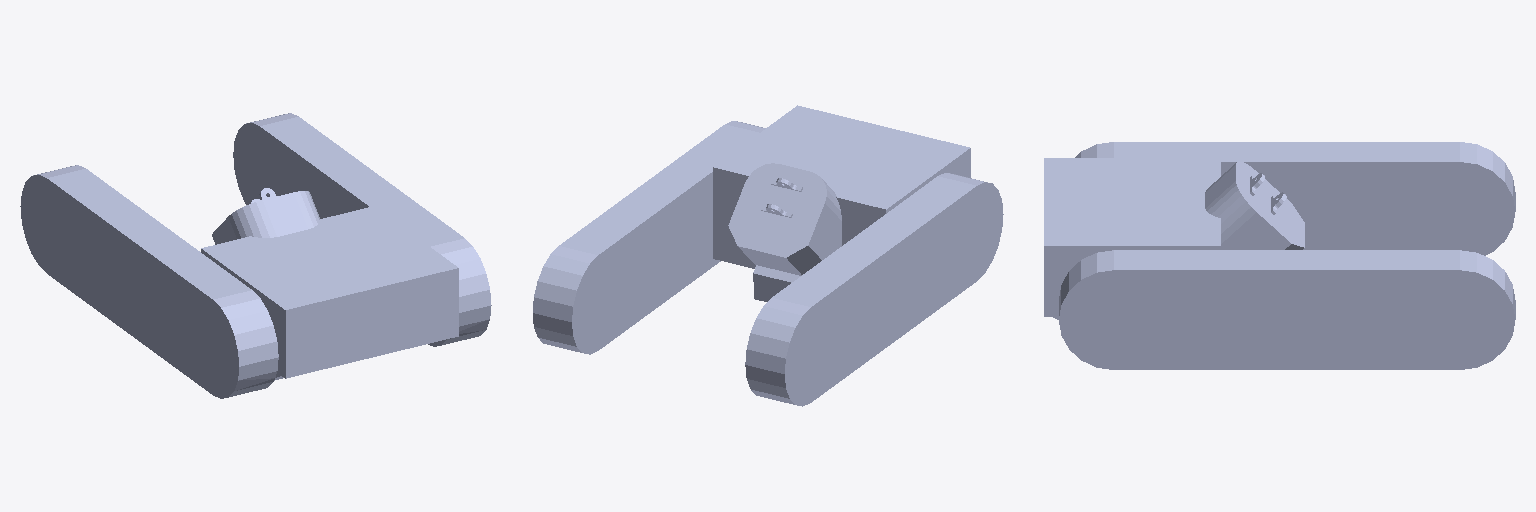
URDF robot description (IWAMP_URDF_151021.SLDASM):
<robot
  name="IWAMP_URDF_151021.SLDASM">
  <link
    name="chasis_link">
    <inertial>
      <origin
        xyz="8.84549564303887E-19 -0.0718108193337467 0.0622831434710217"
        rpy="0 0 0" />
      <mass
        value="9.63949891888311" />
      <inertia
        ixx="0.175105655940575"
        ixy="-8.40221032148051E-17"
        ixz="-8.7505359713904E-18"
        iyy="0.12516602042126"
        iyz="-0.00427488292650829"
        izz="0.280074215069266" />
    </inertial>
    <visual>
      <origin
        xyz="0 0 0"
        rpy="0 0 0" />
      <geometry>
        <mesh
          filename="package://IWAMP_URDF_151021.SLDASM/meshes/chasis_link.STL" />
      </geometry>
      <material
        name="">
        <color
          rgba="0.792156862745098 0.819607843137255 0.933333333333333 1" />
      </material>
    </visual>
    <collision>
      <origin
        xyz="0 0 0"
        rpy="0 0 0" />
      <geometry>
        <mesh
          filename="package://IWAMP_URDF_151021.SLDASM/meshes/chasis_link.STL" />
      </geometry>
    </collision>
  </link>
  <link
    name="trans_base_link">
    <inertial>
      <origin
        xyz="-1.25947262695791E-17 0.0111493414862326 0.0312014794506156"
        rpy="0 0 0" />
      <mass
        value="1.52634919066965" />
      <inertia
        ixx="0.00515878833887719"
        ixy="-1.7213389792638E-18"
        ixz="2.39125865362686E-18"
        iyy="0.00547975843460313"
        iyz="-0.000384362169845534"
        izz="0.0100724945573142" />
    </inertial>
    <visual>
      <origin
        xyz="0 0 0"
        rpy="0 0 0" />
      <geometry>
        <mesh
          filename="package://IWAMP_URDF_151021.SLDASM/meshes/trans_base_link.STL" />
      </geometry>
      <material
        name="">
        <color
          rgba="0.792156862745098 0.819607843137255 0.933333333333333 1" />
      </material>
    </visual>
    <collision>
      <origin
        xyz="0 0 0"
        rpy="0 0 0" />
      <geometry>
        <mesh
          filename="package://IWAMP_URDF_151021.SLDASM/meshes/trans_base_link.STL" />
      </geometry>
    </collision>
  </link>
  <joint
    name="trans_base_joint"
    type="prismatic">
    <origin
      xyz="0 0 0"
      rpy="0 0 0" />
    <parent
      link="chasis_link" />
    <child
      link="trans_base_link" />
    <axis
      xyz="0 1 0" />
    <limit
      effort="0"
      velocity="0" />
  </joint>
  <link
    name="arm_yaw_link">
    <inertial>
      <origin
        xyz="-0.00212537608285478 -0.000611402181059748 0.0322390695229115"
        rpy="0 0 0" />
      <mass
        value="0.361799671756217" />
      <inertia
        ixx="0.000327814456834869"
        ixy="4.79453753360913E-06"
        ixz="2.68851639585549E-05"
        iyy="0.000349984731920422"
        iyz="-4.70523012181893E-06"
        izz="0.000437706123674794" />
    </inertial>
    <visual>
      <origin
        xyz="0 0 0"
        rpy="0 0 0" />
      <geometry>
        <mesh
          filename="package://IWAMP_URDF_151021.SLDASM/meshes/arm_yaw_link.STL" />
      </geometry>
      <material
        name="">
        <color
          rgba="0.792156862745098 0.819607843137255 0.933333333333333 1" />
      </material>
    </visual>
    <collision>
      <origin
        xyz="0 0 0"
        rpy="0 0 0" />
      <geometry>
        <mesh
          filename="package://IWAMP_URDF_151021.SLDASM/meshes/arm_yaw_link.STL" />
      </geometry>
    </collision>
  </link>
  <joint
    name="Arm_yaw_joint"
    type="revolute">
    <origin
      xyz="0 0.0895 0.035016"
      rpy="0 0 0" />
    <parent
      link="trans_base_link" />
    <child
      link="arm_yaw_link" />
    <axis
      xyz="0 0 -1" />
    <limit
      effort="0"
      velocity="0" />
  </joint>
  <link
    name="arm_pitch_link">
    <inertial>
      <origin
        xyz="0.058957667264048 -0.14005721103525 0.0019553069389836"
        rpy="0 0 0" />
      <mass
        value="1.85488275899258" />
      <inertia
        ixx="0.0257712444565225"
        ixy="-0.000439691693175265"
        ixz="2.12917262387439E-05"
        iyy="0.00392606737781297"
        iyz="-6.57668892492239E-05"
        izz="0.0223656996218578" />
    </inertial>
    <visual>
      <origin
        xyz="0 0 0"
        rpy="0 0 0" />
      <geometry>
        <mesh
          filename="package://IWAMP_URDF_151021.SLDASM/meshes/arm_pitch_link.STL" />
      </geometry>
      <material
        name="">
        <color
          rgba="0.792156862745098 0.819607843137255 0.933333333333333 1" />
      </material>
    </visual>
    <collision>
      <origin
        xyz="0 0 0"
        rpy="0 0 0" />
      <geometry>
        <mesh
          filename="package://IWAMP_URDF_151021.SLDASM/meshes/arm_pitch_link.STL" />
      </geometry>
    </collision>
  </link>
  <joint
    name="arm_pitch_joint"
    type="revolute">
    <origin
      xyz="-0.0015 0 0.043"
      rpy="3.1416 -1.5708 0" />
    <parent
      link="arm_yaw_link" />
    <child
      link="arm_pitch_link" />
    <axis
      xyz="0 0 -1" />
    <limit
      effort="0"
      velocity="0" />
  </joint>
  <link
    name="arm_prismatic_link">
    <inertial>
      <origin
        xyz="0.00101633881757432 -0.17912571490332 4.23937646206712E-13"
        rpy="0 0 0" />
      <mass
        value="0.110019786871871" />
      <inertia
        ixx="0.00126342890038883"
        ixy="-1.38410348401849E-06"
        ixz="-2.10689989753812E-16"
        iyy="7.23043976475078E-06"
        iyz="2.98083693793535E-15"
        izz="0.00126085275676098" />
    </inertial>
    <visual>
      <origin
        xyz="0 0 0"
        rpy="0 0 0" />
      <geometry>
        <mesh
          filename="package://IWAMP_URDF_151021.SLDASM/meshes/arm_prismatic_link.STL" />
      </geometry>
      <material
        name="">
        <color
          rgba="0.792156862745098 0.819607843137255 0.933333333333333 1" />
      </material>
    </visual>
    <collision>
      <origin
        xyz="0 0 0"
        rpy="0 0 0" />
      <geometry>
        <mesh
          filename="package://IWAMP_URDF_151021.SLDASM/meshes/arm_prismatic_link.STL" />
      </geometry>
    </collision>
  </link>
  <joint
    name="arm_prismatic_joint"
    type="prismatic">
    <origin
      xyz="0.063769 0.09977 -0.0015"
      rpy="-4.1085E-48 -6.1428E-48 2.5238E-95" />
    <parent
      link="arm_pitch_link" />
    <child
      link="arm_prismatic_link" />
    <axis
      xyz="0 -1 0" />
    <limit
      effort="0"
      velocity="0" />
  </joint>
  <link
    name="wrist_pitch_link">
    <inertial>
      <origin
        xyz="-0.000157908793528061 0.00647785036964442 -1.07871939140088E-10"
        rpy="0 0 0" />
      <mass
        value="0.00528345401160869" />
      <inertia
        ixx="3.41063336130692E-07"
        ixy="-5.19121917890607E-09"
        ixz="4.11871201547351E-15"
        iyy="2.6130680101728E-07"
        iyz="5.33770867276759E-15"
        izz="3.71822826705573E-07" />
    </inertial>
    <visual>
      <origin
        xyz="0 0 0"
        rpy="0 0 0" />
      <geometry>
        <mesh
          filename="package://IWAMP_URDF_151021.SLDASM/meshes/wrist_pitch_link.STL" />
      </geometry>
      <material
        name="">
        <color
          rgba="0.792156862745098 0.819607843137255 0.933333333333333 1" />
      </material>
    </visual>
    <collision>
      <origin
        xyz="0 0 0"
        rpy="0 0 0" />
      <geometry>
        <mesh
          filename="package://IWAMP_URDF_151021.SLDASM/meshes/wrist_pitch_link.STL" />
      </geometry>
    </collision>
  </link>
  <joint
    name="wrist_pitch_joint"
    type="revolute">
    <origin
      xyz="0 0 0"
      rpy="-3.6047E-16 1.8276E-16 0.7854" />
    <parent
      link="arm_prismatic_link" />
    <child
      link="wrist_pitch_link" />
    <axis
      xyz="0 0 1" />
    <limit
      effort="0"
      velocity="0" />
  </joint>
  <link
    name="wrist_row_link">
    <inertial>
      <origin
        xyz="-8.39262507867758E-13 0.0606398181780271 -0.0146123429229879"
        rpy="0 0 0" />
      <mass
        value="0.998352787983995" />
      <inertia
        ixx="0.00175421545173074"
        ixy="-3.45356504699384E-14"
        ixz="2.25884740083236E-11"
        iyy="0.00164371838415454"
        iyz="-3.45497110087724E-05"
        izz="0.00156876934052778" />
    </inertial>
    <visual>
      <origin
        xyz="0 0 0"
        rpy="0 0 0" />
      <geometry>
        <mesh
          filename="package://IWAMP_URDF_151021.SLDASM/meshes/wrist_row_link.STL" />
      </geometry>
      <material
        name="">
        <color
          rgba="0.792156862745098 0.819607843137255 0.933333333333333 1" />
      </material>
    </visual>
    <collision>
      <origin
        xyz="0 0 0"
        rpy="0 0 0" />
      <geometry>
        <mesh
          filename="package://IWAMP_URDF_151021.SLDASM/meshes/wrist_row_link.STL" />
      </geometry>
    </collision>
  </link>
  <joint
    name="wrist_row_joint"
    type="revolute">
    <origin
      xyz="0 0.0127 0"
      rpy="0 1.5708 0" />
    <parent
      link="wrist_pitch_link" />
    <child
      link="wrist_row_link" />
    <axis
      xyz="0 0 1" />
    <limit
      effort="0"
      velocity="0" />
  </joint>
  <link
    name="tool_link">
    <inertial>
      <origin
        xyz="-7.91465715362353E-13 -0.0166761289891899 0.0782580600328449"
        rpy="0 0 0" />
      <mass
        value="0.999157186107062" />
      <inertia
        ixx="0.00175794457946145"
        ixy="2.25883697304288E-11"
        ixz="3.44062963742904E-14"
        iyy="0.00157227459030867"
        iyz="3.36695904433802E-05"
        izz="0.00164394631652227" />
    </inertial>
    <visual>
      <origin
        xyz="0 0 0"
        rpy="0 0 0" />
      <geometry>
        <mesh
          filename="package://IWAMP_URDF_151021.SLDASM/meshes/tool_link.STL" />
      </geometry>
      <material
        name="">
        <color
          rgba="0.792156862745098 0.819607843137255 0.933333333333333 1" />
      </material>
    </visual>
    <collision>
      <origin
        xyz="0 0 0"
        rpy="0 0 0" />
      <geometry>
        <mesh
          filename="package://IWAMP_URDF_151021.SLDASM/meshes/tool_link.STL" />
      </geometry>
    </collision>
  </link>
  <joint
    name="tool_joint"
    type="fixed">
    <origin
      xyz="0 0.13895 0.0020772"
      rpy="1.5708 5.0343E-13 6.3761E-13" />
    <parent
      link="wrist_row_link" />
    <child
      link="tool_link" />
    <axis
      xyz="0 0 0" />
  </joint>
  <link
    name="cmass_left_link">
    <inertial>
      <origin
        xyz="-0.168 -0.00377643867018349 0.0655"
        rpy="0 0 0" />
      <mass
        value="0.544396872641284" />
      <inertia
        ixx="0.0096631158782445"
        ixy="-1.32763346699882E-17"
        ixz="-5.70383169818937E-20"
        iyy="0.000448883258665965"
        iyz="1.60005972270784E-18"
        izz="0.00922729814452209" />
    </inertial>
    <visual>
      <origin
        xyz="0 0 0"
        rpy="0 0 0" />
      <geometry>
        <mesh
          filename="package://IWAMP_URDF_151021.SLDASM/meshes/cmass_left_link.STL" />
      </geometry>
      <material
        name="">
        <color
          rgba="0.792156862745098 0.819607843137255 0.933333333333333 1" />
      </material>
    </visual>
    <collision>
      <origin
        xyz="0 0 0"
        rpy="0 0 0" />
      <geometry>
        <mesh
          filename="package://IWAMP_URDF_151021.SLDASM/meshes/cmass_left_link.STL" />
      </geometry>
    </collision>
  </link>
  <joint
    name="cmass_left_joint"
    type="prismatic">
    <origin
      xyz="0.002 0 -0.015"
      rpy="0 0 0" />
    <parent
      link="chasis_link" />
    <child
      link="cmass_left_link" />
    <axis
      xyz="0 1 0" />
    <limit
      effort="0"
      velocity="0" />
  </joint>
  <link
    name="cmass_right_link">
    <inertial>
      <origin
        xyz="0.168 -0.00377643867018358 0.0655000000000001"
        rpy="0 0 0" />
      <mass
        value="0.544396872641284" />
      <inertia
        ixx="0.00966311587824451"
        ixy="1.26219376965671E-17"
        ixz="-7.2733229009762E-20"
        iyy="0.000448883258665913"
        iyz="7.35473736851508E-19"
        izz="0.00922729814452204" />
    </inertial>
    <visual>
      <origin
        xyz="0 0 0"
        rpy="0 0 0" />
      <geometry>
        <mesh
          filename="package://IWAMP_URDF_151021.SLDASM/meshes/cmass_right_link.STL" />
      </geometry>
      <material
        name="">
        <color
          rgba="0.792156862745098 0.819607843137255 0.933333333333333 1" />
      </material>
    </visual>
    <collision>
      <origin
        xyz="0 0 0"
        rpy="0 0 0" />
      <geometry>
        <mesh
          filename="package://IWAMP_URDF_151021.SLDASM/meshes/cmass_right_link.STL" />
      </geometry>
    </collision>
  </link>
  <joint
    name="cmass_right_joint"
    type="prismatic">
    <origin
      xyz="-0.002 0 -0.015"
      rpy="0 0 0" />
    <parent
      link="chasis_link" />
    <child
      link="cmass_right_link" />
    <axis
      xyz="0 -1 0" />
    <limit
      effort="0"
      velocity="0" />
  </joint>
</robot>

--- Render facts (derived) ---
The picture shows the robot from 3 angles, left to right: view 1: azimuth 30°, elevation 25°; view 2: azimuth 150°, elevation 25°; view 3: azimuth 270°, elevation 25°; orthographic projection.
Model IWAMP_URDF_151021.SLDASM with 10 links and 9 joints (4 revolute, 4 prismatic, 1 fixed), rooted at chasis_link, posed every joint at zero.
Links seen in each view (by area): view 1: chasis_link, wrist_row_link; view 2: chasis_link, wrist_row_link; view 3: chasis_link, wrist_row_link.
Boxes of the visible links, left/top/right/bottom form: chasis_link: left=20, top=113, right=491, bottom=398; wrist_row_link: left=212, top=188, right=319, bottom=244; chasis_link: left=533, top=105, right=1003, bottom=406; wrist_row_link: left=728, top=163, right=841, bottom=301; chasis_link: left=1044, top=142, right=1515, bottom=369; wrist_row_link: left=1205, top=161, right=1304, bottom=249.
Size in the robot's own frame: 0.32 by 0.496 by 0.1531 metres.
2 mesh visuals loaded from 10 distinct referenced files (2 binary STL); not drawn: 8 (reference not matched to a file when rendering).